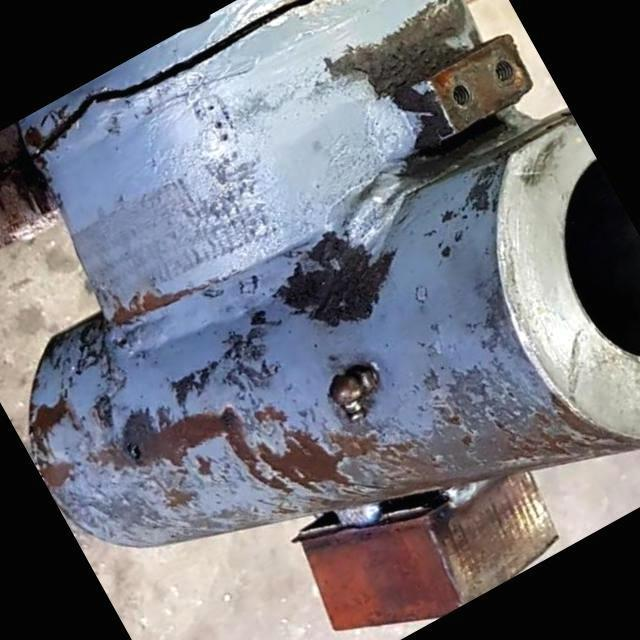defect: (15, 0, 324, 167)
